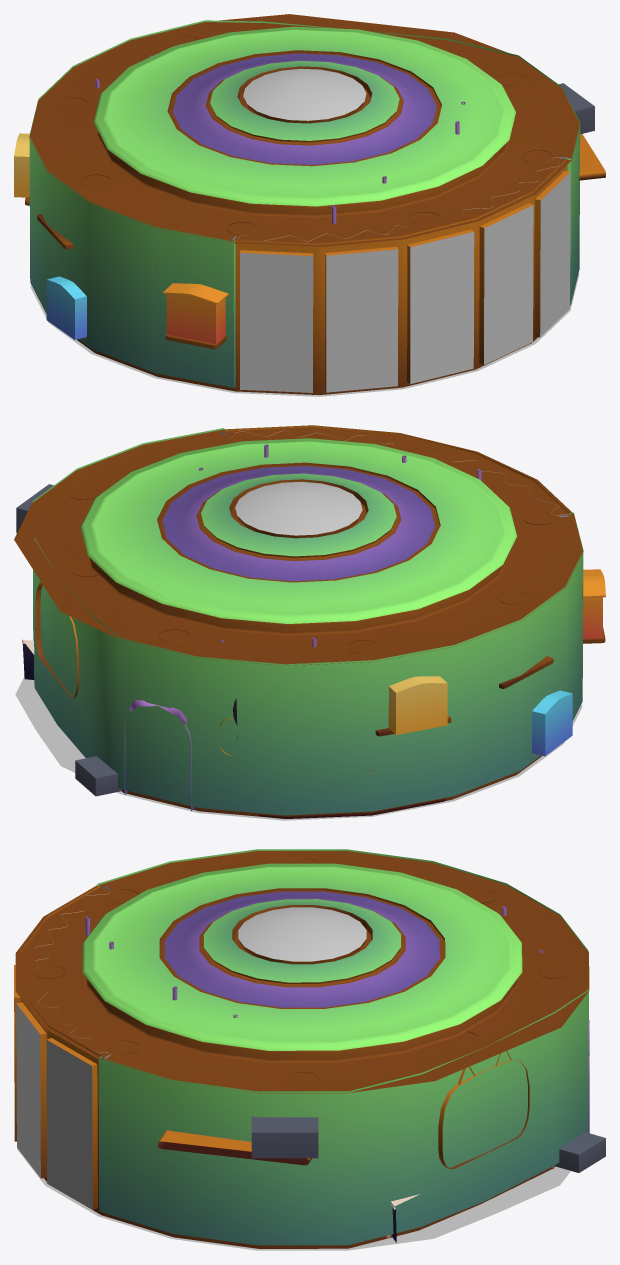
The model's file is Cafe.fbx.
3 renders of one model, top to bottom at view 1: azimuth 30°, elevation 25°; view 2: azimuth 150°, elevation 25°; view 3: azimuth 270°, elevation 25°, orthographic. The views are drawn at different scales.
Visible parts, largest first — view 1: Roof, Windows, Wall1, Cat_Box6, Cat_Box3, Floor, Cat_Box7, Base, Platform; view 2: Roof, Wall1, Floor, Cat_Box7, Cat_Box3, Cat_Box6, Vent, Cat_Box5, Couch3, Door; view 3: Roof, Wall1, Windows, Floor, Base, Platform, Vent, Cat_Box5.
Part boxes in pixels (x1,y1,x2,y2): Roof: (29,14,580,246); Windows: (240,172,570,392); Wall1: (29,20,580,394); Cat_Box6: (163,283,228,344); Cat_Box3: (46,276,86,339); Floor: (30,273,579,396); Cat_Box7: (14,133,29,197); Base: (559,83,594,134); Platform: (579,134,605,180); Roof: (14,425,583,665); Wall1: (32,425,583,817); Floor: (15,677,582,820); Cat_Box7: (388,676,447,734); Cat_Box3: (532,690,572,756); Cat_Box6: (583,569,605,638); Vent: (75,756,121,796); Cat_Box5: (35,582,78,697); Couch3: (259,770,446,818); Door: (124,700,193,811); Roof: (15,851,589,1093); Wall1: (14,849,588,1248); Windows: (16,1004,92,1209); Floor: (17,1148,570,1250); Base: (251,1116,318,1158); Platform: (158,1130,318,1165); Vent: (555,1132,605,1172); Cat_Box5: (438,1051,529,1168).
Size of the model in its own units: 1897 by 716 by 1798.
